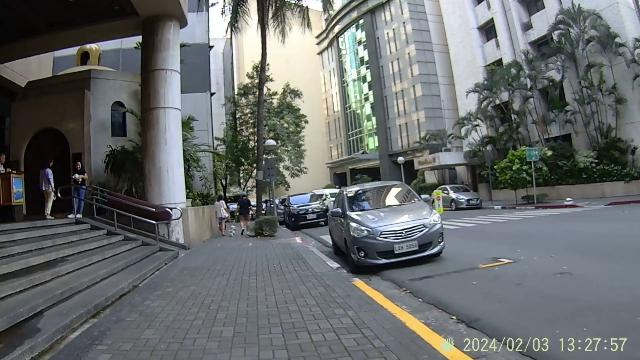lamp_post: (259, 138, 283, 226)
